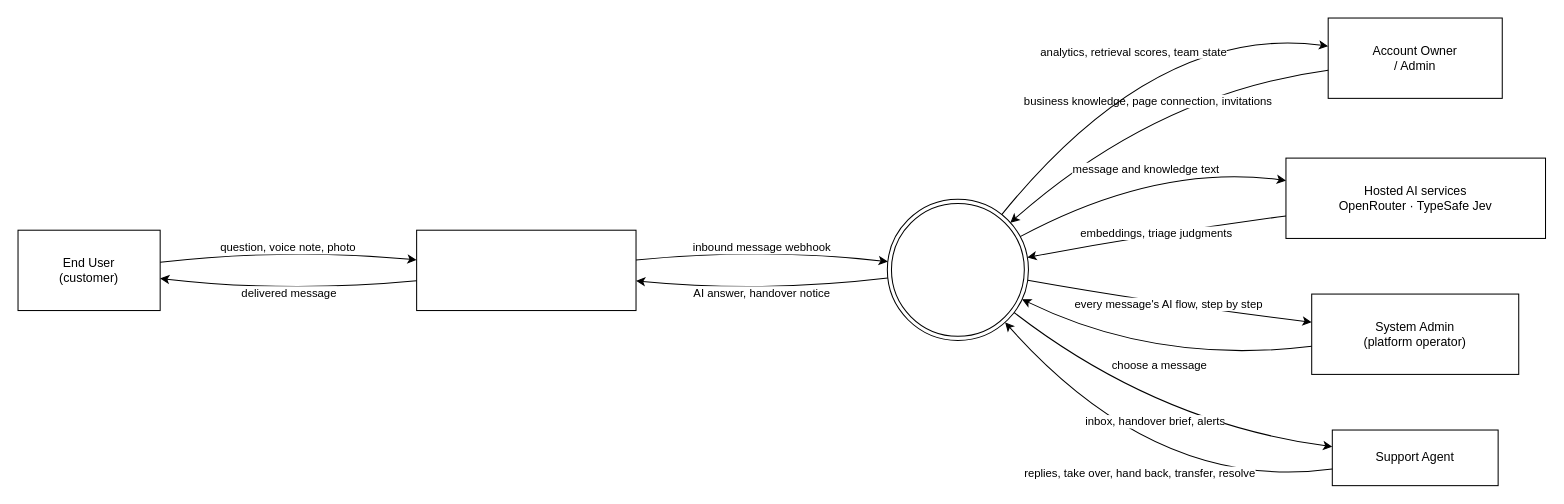
Some shapes in this 1564 by 504 pixel diagram are drawn without their labels. Each missing label, with the box of its shape:
0 EkSamadhan AI system: (886, 198, 1028, 340)
Meta platform Facebook · Instagram: (416, 229, 636, 311)
